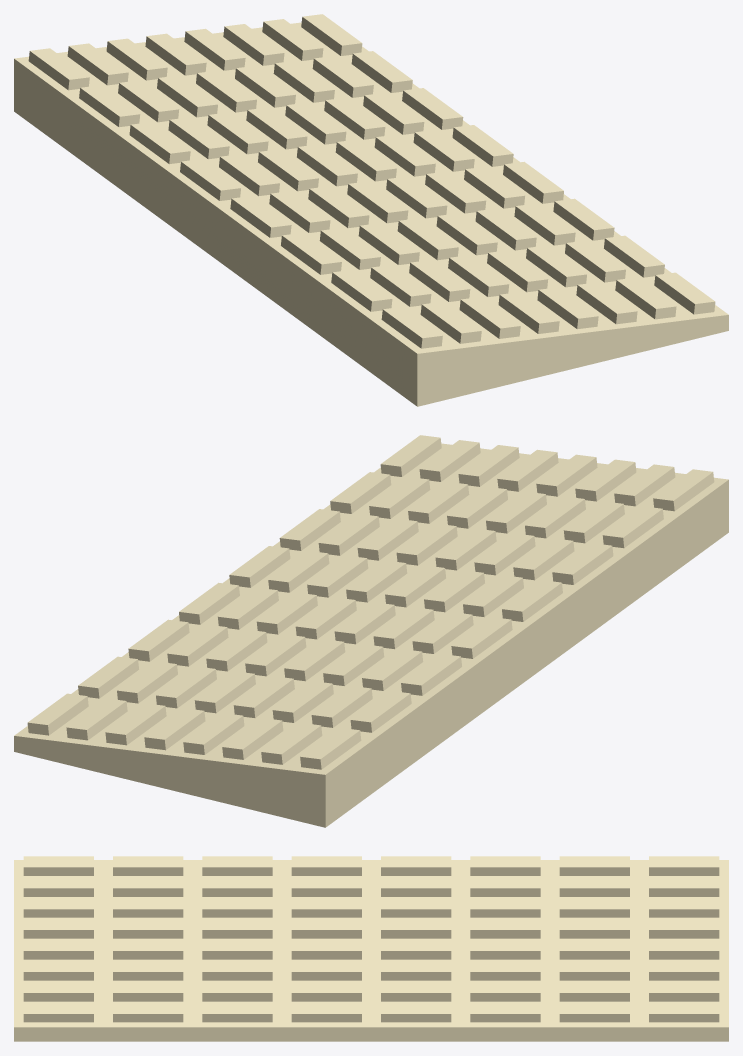
Rendered from Key_Board.fbx.
3 views of the same model, one above another, from view 1: azimuth 30°, elevation 25°; view 2: azimuth 150°, elevation 25°; view 3: azimuth 270°, elevation 25° (orthographic). The views are drawn at different scales.
Parts seen in each view (by area): view 1: Cube.033; view 2: Cube.033; view 3: Cube.033.
Part boxes in pixels (bbox=[...]): Cube.033: bbox=[14, 14, 728, 406]; Cube.033: bbox=[14, 435, 728, 827]; Cube.033: bbox=[14, 856, 728, 1041].
Size of the model in its own units: 67.09 by 12.78 by 151.
